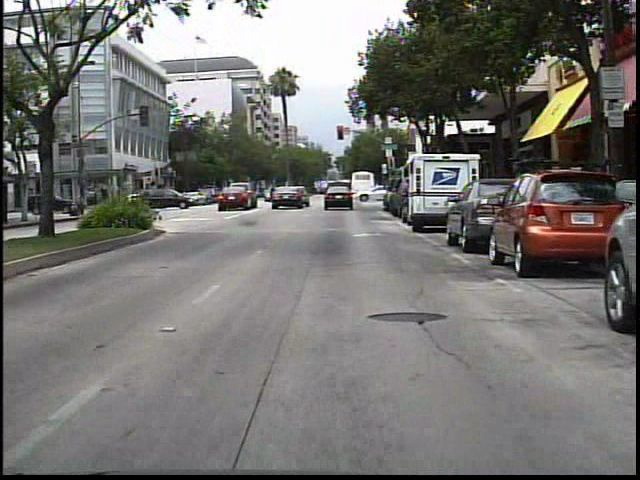person: (264, 182, 278, 206)
